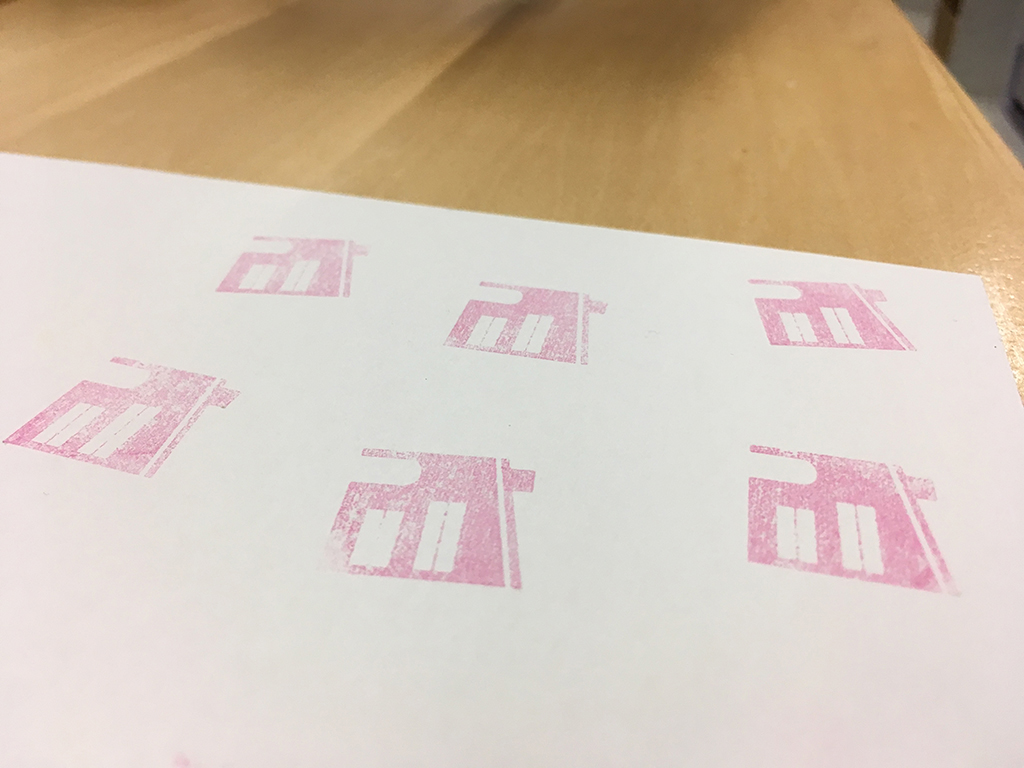house: (1, 329, 256, 499), (733, 437, 970, 612), (310, 433, 551, 605), (430, 268, 619, 379), (724, 269, 926, 366), (210, 218, 378, 304)
